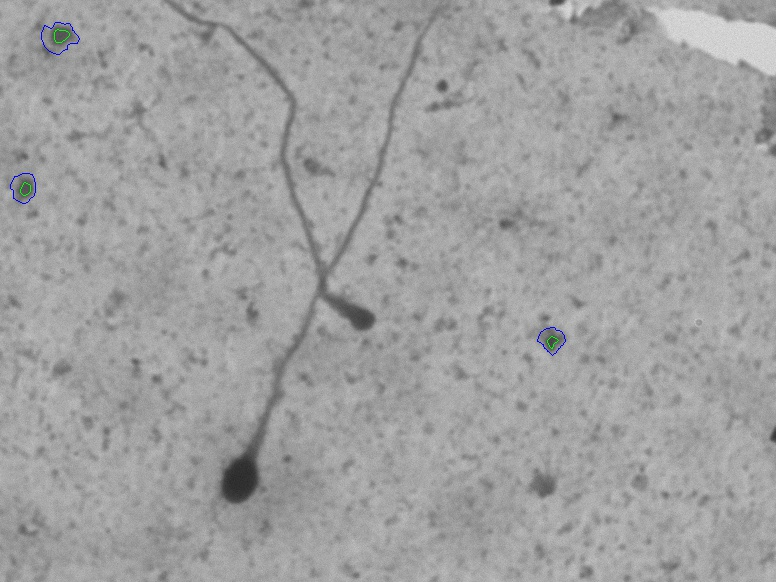Abnormal: (189, 17, 444, 526)
